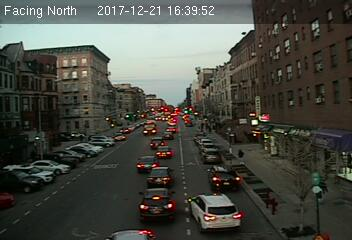car: (187, 191, 243, 231), (136, 187, 178, 220), (207, 165, 241, 190), (145, 166, 175, 187), (135, 155, 160, 172), (202, 148, 220, 163), (155, 145, 174, 159), (149, 137, 165, 149)
